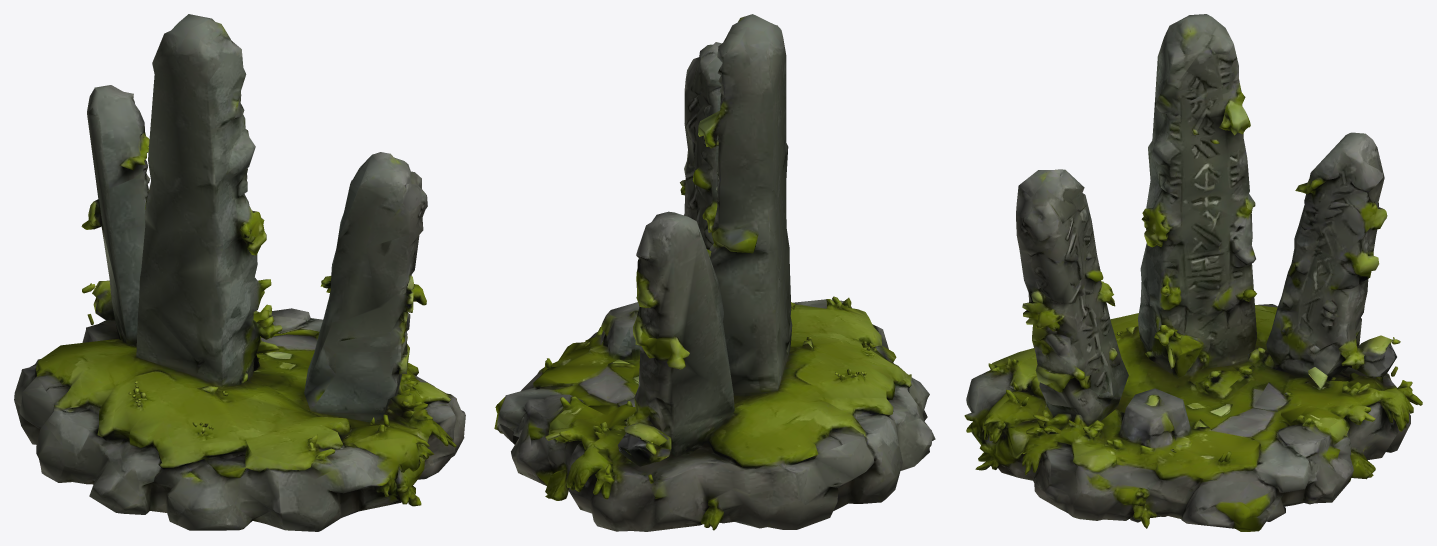
Rendered from monolith.glb.
3 renders of one model, left to right at view 1: azimuth 30°, elevation 25°; view 2: azimuth 150°, elevation 25°; view 3: azimuth 270°, elevation 25°, orthographic. The views are drawn at different scales.
Visible parts, largest first — view 1: tripo_node_4cb3a240-d8e1-4b62-b19f-9174b54a3040; view 2: tripo_node_4cb3a240-d8e1-4b62-b19f-9174b54a3040; view 3: tripo_node_4cb3a240-d8e1-4b62-b19f-9174b54a3040.
Part boxes in pixels (bbox=[...]): tripo_node_4cb3a240-d8e1-4b62-b19f-9174b54a3040: bbox=[14, 14, 465, 531]; tripo_node_4cb3a240-d8e1-4b62-b19f-9174b54a3040: bbox=[494, 14, 935, 531]; tripo_node_4cb3a240-d8e1-4b62-b19f-9174b54a3040: bbox=[964, 14, 1422, 531].
Size of the model in its own units: 0.881 by 0.9729 by 0.971.
Materials: 1 (1 with a texture image).
